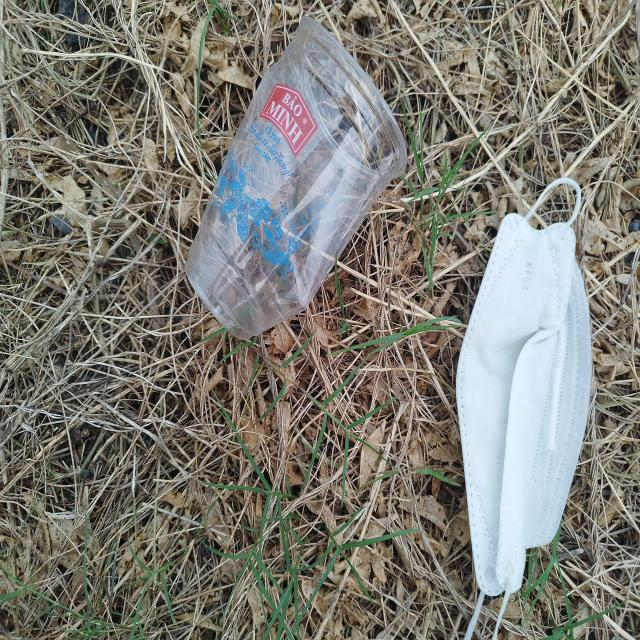mask: (456, 176, 594, 640)
plastic glass: (185, 14, 408, 341)
